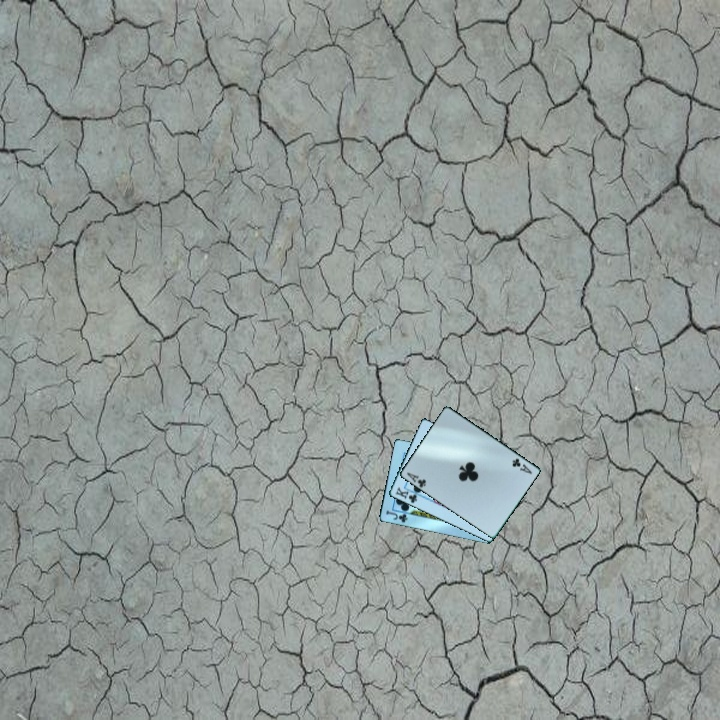Ac: (508, 455, 535, 477), (403, 469, 429, 491)
Jc: (383, 507, 410, 526)
Kc: (392, 484, 420, 506)
